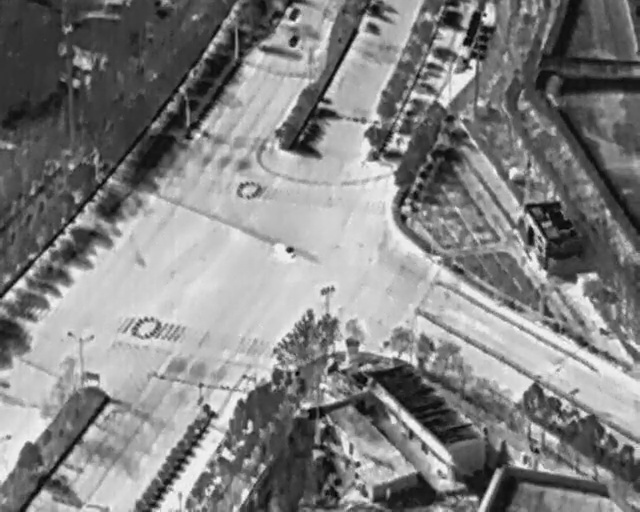Car: (274, 241, 298, 260), (288, 32, 302, 48), (288, 6, 301, 21)
